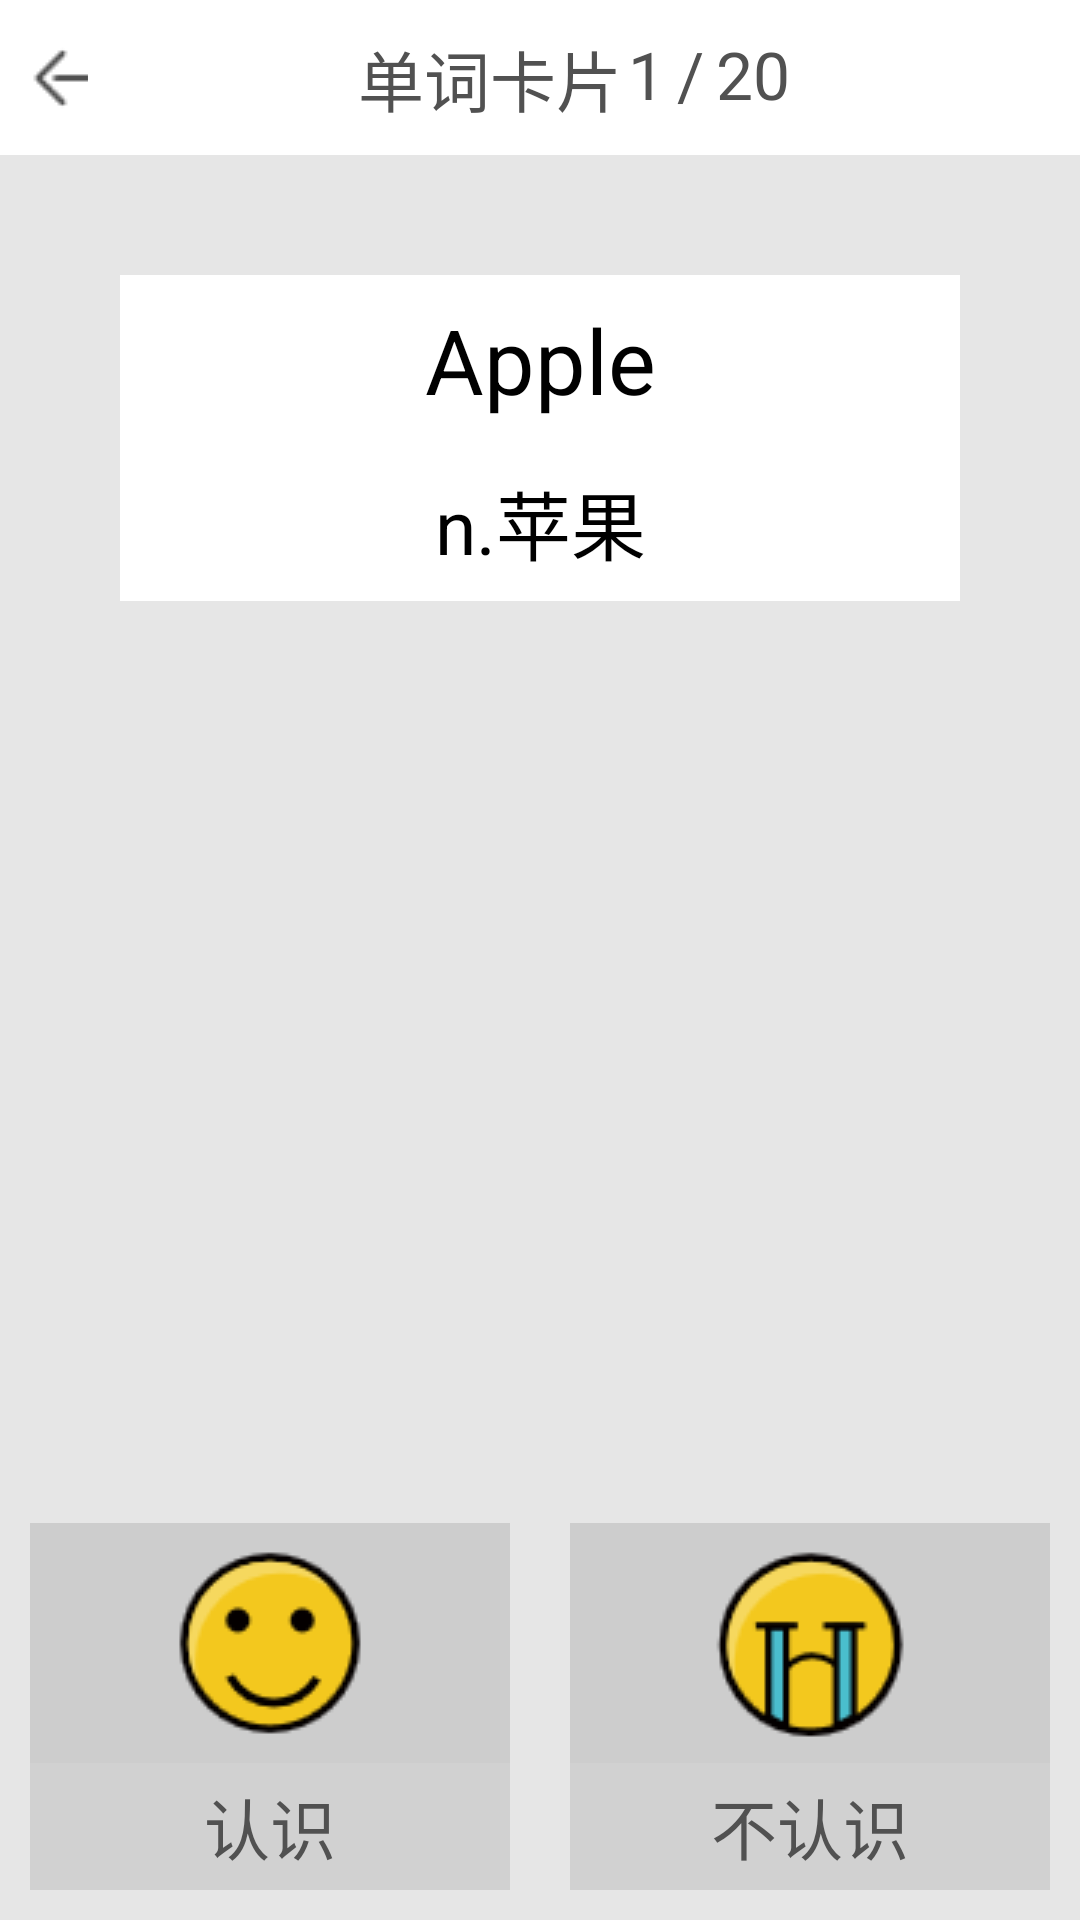

Screen size 1080×1920. Icon name, then its center in pixels as point (x, y):
back: point (61, 78)
im cry: point (810, 1644)
im laugh: point (270, 1643)
